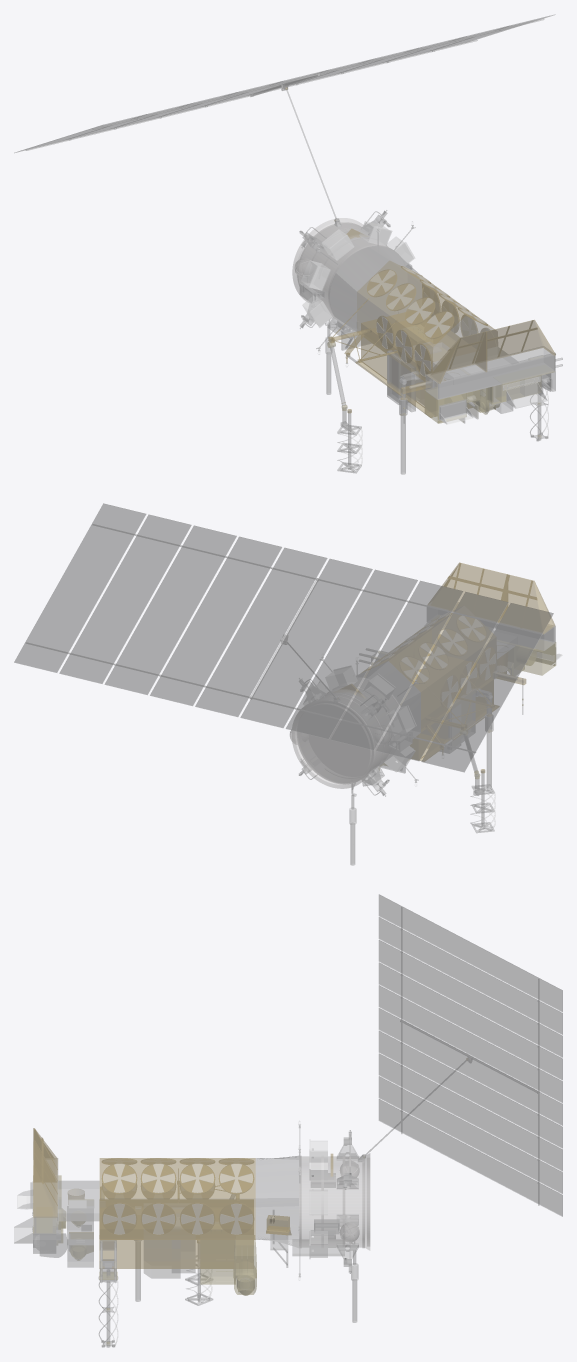
File: POES-Composite.glb
The picture shows the model from 3 angles, top to bottom: view 1: azimuth 30°, elevation 25°; view 2: azimuth 150°, elevation 25°; view 3: azimuth 270°, elevation 25°; orthographic projection. The views are drawn at different scales.
Parts seen in each view (by area): view 1: mesh_0_5, mesh_0_7, mesh_0_10, mesh_0_13, mesh_0_16, mesh_0_22, mesh_0_18, mesh_0_2, mesh_0_21, mesh_0_23; view 2: mesh_0_22, mesh_0_23, mesh_0_5, mesh_0_10, mesh_0_7, mesh_0_18, mesh_0_21, mesh_0_16, mesh_0_2; view 3: mesh_0_22, mesh_0_23, mesh_0_5, mesh_0_7, mesh_0_18, mesh_0_10, mesh_0_13, mesh_0_2, mesh_0_16, mesh_0_3, mesh_0_21, mesh_0_17.
Boxes of the visible parts, x1,y1,x2,y2 form: mesh_0_5: (328, 261, 555, 417); mesh_0_7: (300, 215, 555, 473); mesh_0_10: (26, 19, 562, 474); mesh_0_13: (315, 233, 547, 408); mesh_0_16: (301, 221, 473, 424); mesh_0_22: (14, 14, 555, 152); mesh_0_18: (292, 218, 386, 318); mesh_0_2: (327, 326, 554, 423); mesh_0_21: (297, 222, 405, 327); mesh_0_23: (25, 18, 540, 149); mesh_0_22: (14, 504, 553, 772); mesh_0_23: (15, 504, 552, 771); mesh_0_5: (362, 562, 554, 761); mesh_0_10: (26, 524, 542, 865); mesh_0_7: (302, 602, 555, 791); mesh_0_18: (292, 678, 399, 788); mesh_0_21: (296, 677, 400, 784); mesh_0_16: (303, 652, 562, 771); mesh_0_2: (383, 640, 555, 778); mesh_0_22: (379, 895, 562, 1216); mesh_0_23: (379, 895, 562, 1215); mesh_0_5: (33, 1128, 291, 1268); mesh_0_7: (30, 1124, 365, 1301); mesh_0_18: (299, 1153, 370, 1250); mesh_0_10: (98, 907, 539, 1347); mesh_0_13: (14, 1148, 313, 1251); mesh_0_2: (33, 1175, 256, 1294); mesh_0_16: (17, 1139, 327, 1258); mesh_0_3: (70, 1156, 364, 1343); mesh_0_21: (299, 1156, 364, 1247); mesh_0_17: (99, 1121, 300, 1345).
Size of the model in its own units: 398 by 269 by 408.
